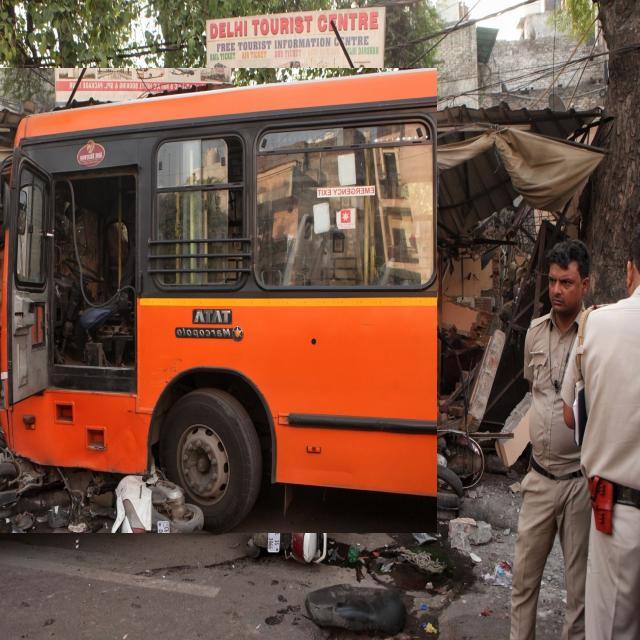accident: (0, 68, 437, 533), (234, 430, 482, 574)
